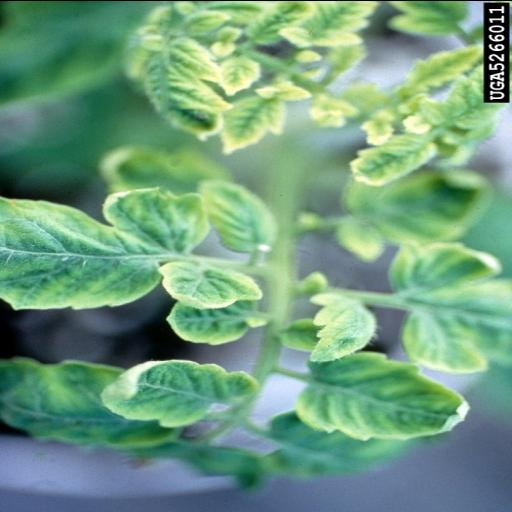disease_tomato: (0, 198, 157, 312), (298, 355, 472, 441), (104, 356, 260, 426), (84, 179, 212, 259), (134, 32, 214, 138), (165, 294, 280, 352), (200, 176, 279, 260), (161, 251, 265, 311), (214, 84, 292, 154), (346, 131, 438, 187), (310, 288, 376, 362), (283, 0, 379, 49), (400, 44, 484, 90), (216, 52, 260, 94)
